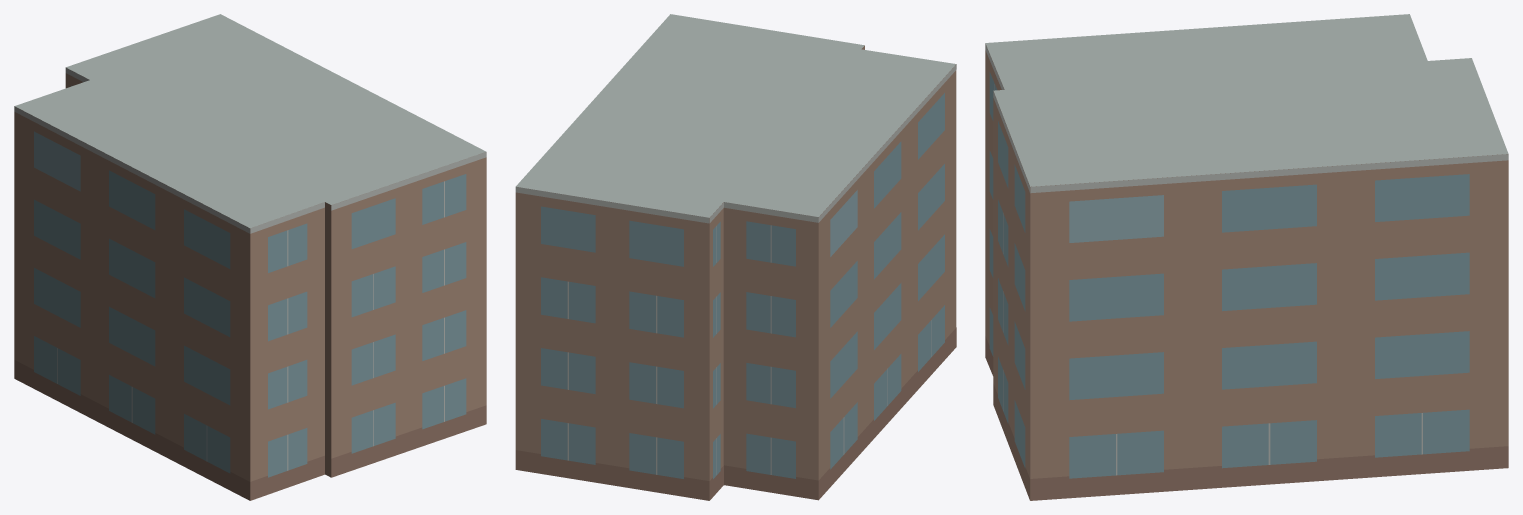
File: survey-upis-32577646.glb
The picture shows the model from 3 angles, left to right: view 1: azimuth 30°, elevation 25°; view 2: azimuth 150°, elevation 25°; view 3: azimuth 270°, elevation 25°; orthographic projection. The views are drawn at different scales.
Visible parts, largest first — view 1: survey-upis-32577646.tmp; view 2: survey-upis-32577646.tmp; view 3: survey-upis-32577646.tmp.
Boxes of the visible parts, x1,y1,x2,y2 form: survey-upis-32577646.tmp: (14,14,486,500); survey-upis-32577646.tmp: (515,14,956,500); survey-upis-32577646.tmp: (985,14,1508,500).
Bounding box in the file's own units: 14.17 × 12 × 18.13.
